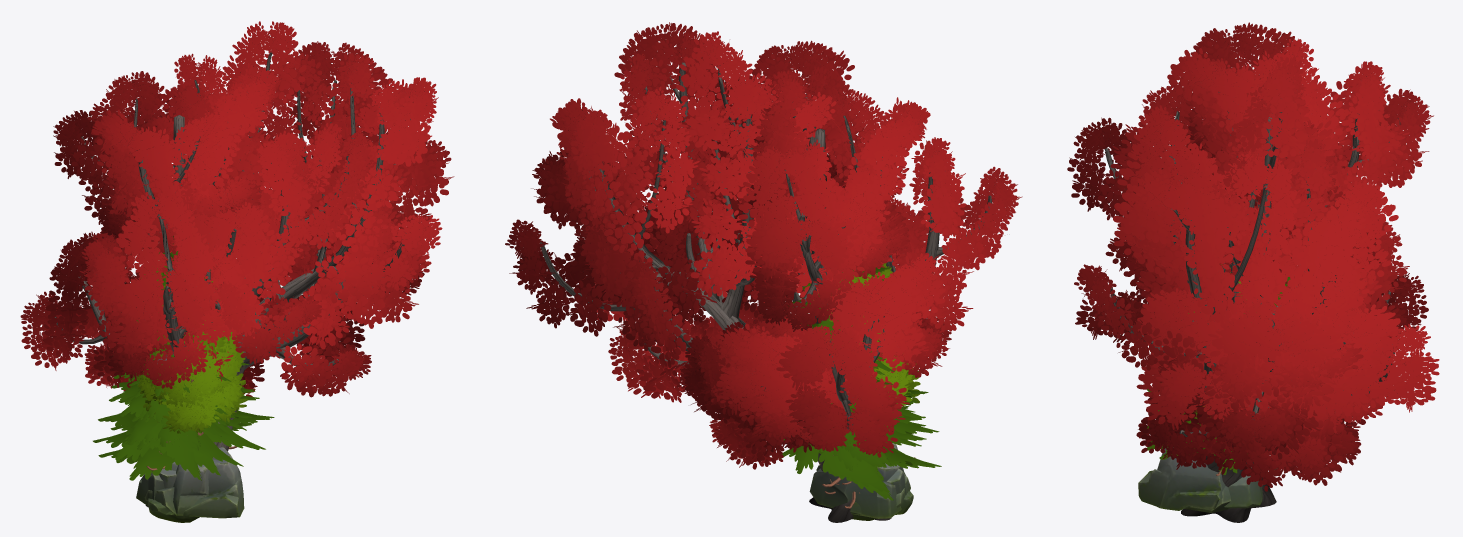
File: natureza.glb
3 renders of one model, left to right at view 1: azimuth 30°, elevation 25°; view 2: azimuth 150°, elevation 25°; view 3: azimuth 270°, elevation 25°, orthographic. The views are drawn at different scales.
Visible parts, largest first — view 1: TwistedTree_3, TwistedTree_1, Rock_Medium_3, Pine_2, Pine_5, Pine_4, CommonTree_3, CommonTree_1, CommonTree_2, Rock_Medium_1, Pine_1; view 2: TwistedTree_1, TwistedTree_3, Pine_5, Rock_Medium_2, Pine_2, Pine_4; view 3: TwistedTree_1, TwistedTree_3, Rock_Medium_3, Rock_Medium_2.
Boxes of the visible parts, box(x1,y1,x2,y2) form: TwistedTree_3: box(20, 53, 376, 396); TwistedTree_1: box(106, 21, 454, 507); Rock_Medium_3: box(148, 447, 244, 522); Pine_2: box(98, 339, 253, 480); Pine_5: box(93, 380, 274, 475); Pine_4: box(98, 236, 255, 470); CommonTree_3: box(141, 278, 245, 411); CommonTree_1: box(139, 334, 247, 433); CommonTree_2: box(136, 330, 245, 435); Rock_Medium_1: box(144, 464, 209, 515); Pine_1: box(110, 336, 242, 450); TwistedTree_1: box(505, 22, 927, 522); TwistedTree_3: box(676, 40, 1022, 469); Pine_5: box(783, 291, 930, 492); Rock_Medium_2: box(809, 463, 901, 518); Pine_2: box(781, 377, 941, 500); Pine_4: box(801, 267, 939, 508); TwistedTree_1: box(1074, 56, 1439, 522); TwistedTree_3: box(1067, 22, 1433, 479); Rock_Medium_3: box(1138, 447, 1225, 510); Rock_Medium_2: box(1224, 475, 1262, 508).
Bounding box in the file's own units: 15.83 × 16.84 × 11.71.
6 materials, 6 textured.
